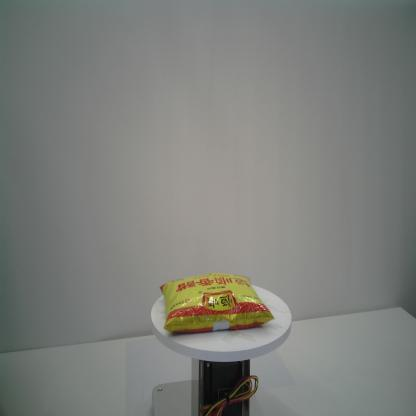Seasoner: (160, 272, 275, 334)
